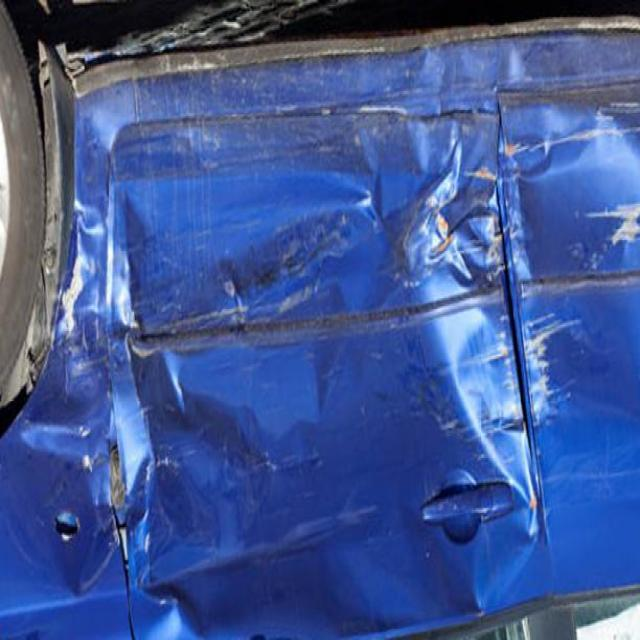dent: (364, 79, 638, 567), (23, 161, 188, 637)
